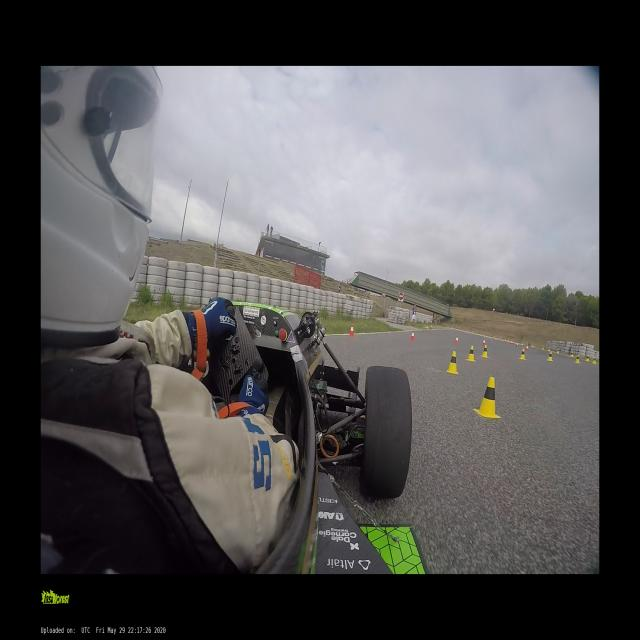orange_cone: (408, 331, 416, 342), (348, 325, 354, 338), (525, 344, 529, 352), (454, 337, 458, 344), (483, 339, 485, 346), (430, 324, 432, 329)
yellow_cone: (474, 377, 501, 418), (446, 350, 458, 375), (465, 346, 476, 362), (518, 348, 526, 360), (482, 346, 488, 358), (546, 351, 553, 361), (574, 355, 581, 364), (591, 357, 598, 365), (584, 354, 590, 361), (570, 352, 574, 358), (556, 348, 560, 354), (541, 346, 544, 350), (548, 346, 550, 352), (426, 324, 428, 328)
